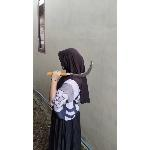Celurit: (43, 59, 95, 81)
